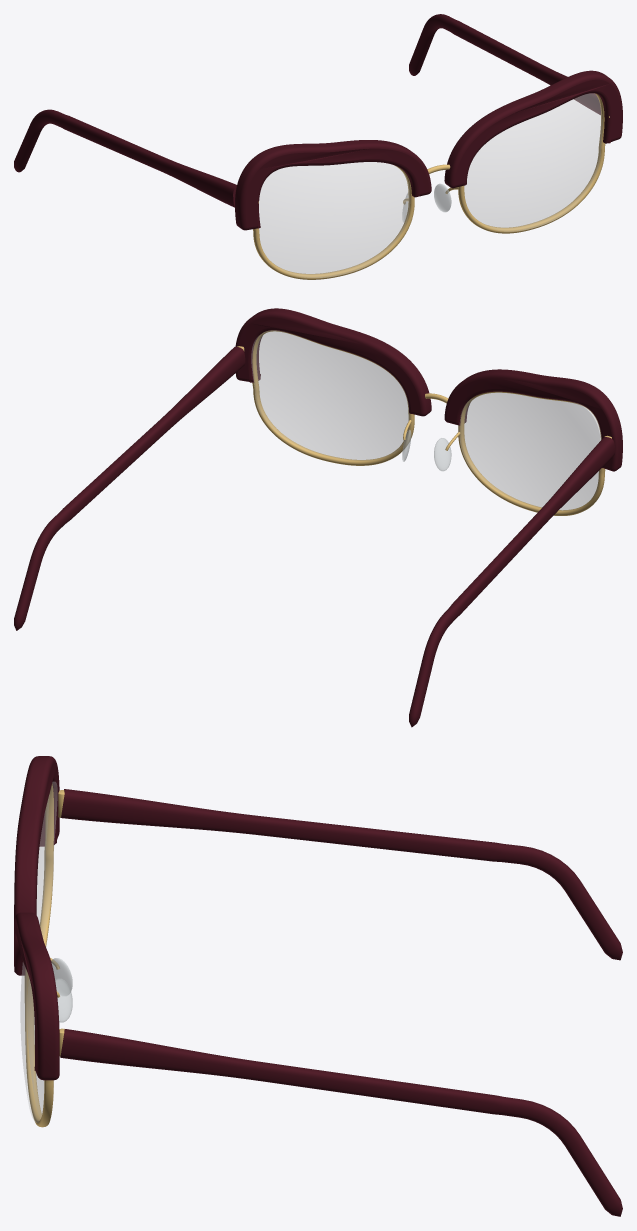
The model's file is mae-m.glb.
3 views of the same model, one above another, from view 1: azimuth 30°, elevation 25°; view 2: azimuth 150°, elevation 25°; view 3: azimuth 270°, elevation 25° (orthographic). The views are drawn at different scales.
Parts seen in each view (by area): view 1: Front, Lens_R, Lens_L, Temple_R, Temple_L, NosePads; view 2: Lens_L, Front, Lens_R, Temple_L, Temple_R, NosePads; view 3: Temple_L, Temple_R, Front, Lens_L, Lens_R, NosePads.
Part boxes in pixels (x1,y1,x2,y2): Front: (235,70,622,279); Lens_R: (259,162,409,277); Lens_L: (464,93,602,231); Temple_R: (14,109,236,207); Temple_L: (409,14,600,114); NosePads: (402,183,451,222); Lens_L: (251,330,409,460); Front: (235,308,622,515); Lens_R: (460,393,601,510); Temple_L: (14,346,245,630); Temple_R: (409,437,615,727); NosePads: (402,430,451,471); Temple_L: (60,1029,622,1216); Temple_R: (61,789,622,960); Front: (14,756,64,1127); Lens_L: (20,962,43,1122); Lens_R: (37,782,57,939); NosePads: (51,958,72,1022).
Bounding box in the file's own units: 0.1391 × 0.0567 × 0.1367.
